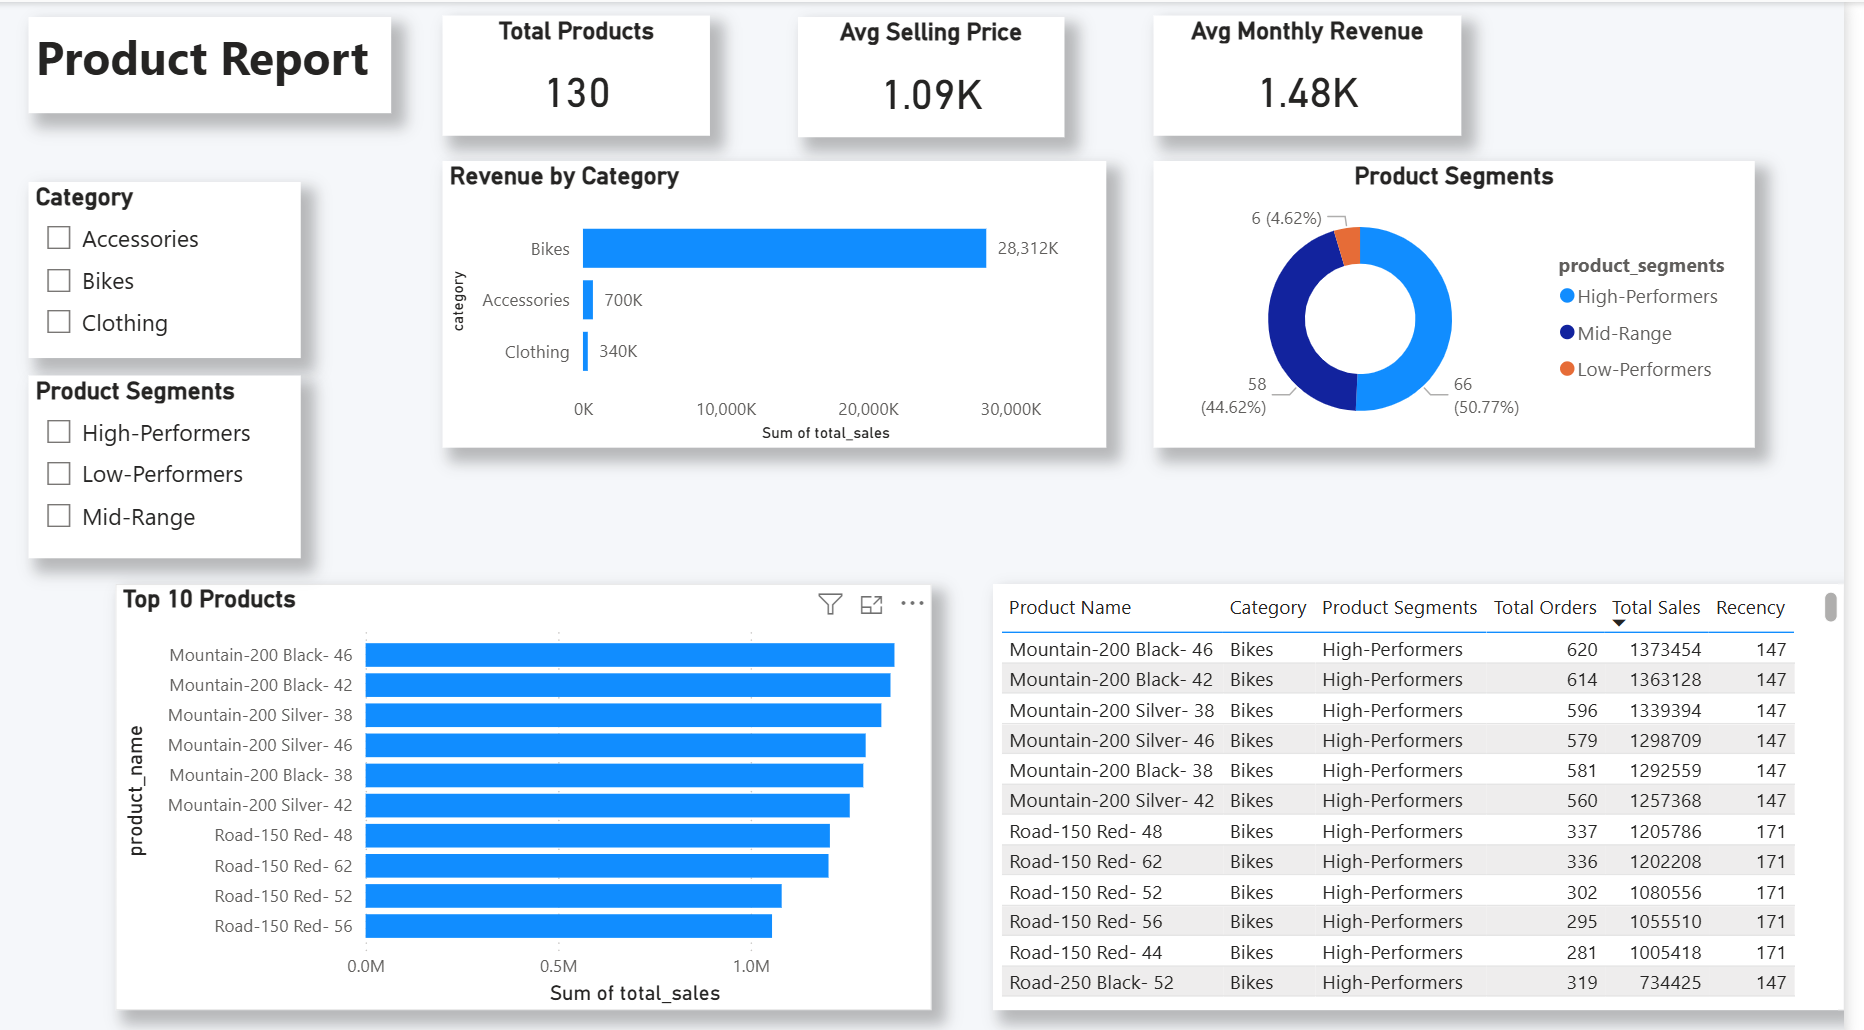

What the dashboard file says about the page in this screenshot:
{"tool":"powerbi","page":{"name":"Product Analytics","canvas":[1280,720],"ordinal":2},"visuals":[{"type":"card","title":"Total Products","fields":{"Values":["CountNonNull(gold report_products.product_key)"]},"box":[308.9,8.9,185.6,83.3],"z":0},{"type":"card","title":"Avg Selling Price","fields":{"Values":["Avg(gold report_products.avg_selling_price)"]},"box":[555.6,10,184.4,83.3],"z":1000},{"type":"card","title":"Avg Monthly Revenue","fields":{"Values":["Avg(gold report_products.avg_monthly_revenue)"]},"box":[801.1,8.9,213.3,83.3],"z":2000},{"type":"donutChart","title":"Product Segments","fields":{"Category":["gold report_products.product_segments"],"Y":["CountNonNull(gold report_products.product_key)"]},"box":[801.1,110,416.7,198.9],"z":3000},{"type":"clusteredBarChart","title":"Revenue by Category","fields":{"Category":["gold report_products.category"],"Y":["Sum(gold report_products.total_sales)"]},"box":[308.9,110,460,198.9],"z":4000},{"type":"clusteredBarChart","title":"Top 10 Products","fields":{"Category":["gold report_products.product_name"],"Y":["Sum(gold report_products.total_sales)"]},"box":[82.2,403.3,565.6,295.6],"z":5000},{"type":"tableEx","fields":{"Values":["gold report_products.product_name","gold report_products.category","gold report_products.product_segments","Sum(gold report_products.total_orders)","Sum(gold report_products.total_sales)","gold report_products.recency"]},"box":[690,403.3,590,295.6],"z":6000},{"type":"textbox","box":[22.2,10,251.1,66.7],"z":7000},{"type":"slicer","title":"Category","fields":{"Values":["gold report_products.category"]},"box":[22.2,124.4,188.9,122.2],"z":8000},{"type":"slicer","title":"Product Segments","fields":{"Values":["gold report_products.product_segments"]},"box":[22.2,258.9,188.9,126.7],"z":9000}]}

Visuals, with their boxes in screenshot pixels (x1, y1, x2, y2), scaled from the page's 1280x720 canvas onto the 1864x1030 screenshot:
"Total Products" card: box(450, 13, 720, 132)
"Avg Selling Price" card: box(809, 14, 1078, 133)
"Avg Monthly Revenue" card: box(1167, 13, 1477, 132)
"Product Segments" donutChart: box(1167, 157, 1773, 442)
"Revenue by Category" clusteredBarChart: box(450, 157, 1120, 442)
"Top 10 Products" clusteredBarChart: box(120, 577, 943, 1000)
tableEx - gold report_products.product_name x gold report_products.category: box(1005, 577, 1863, 1000)
textbox: box(32, 14, 398, 110)
"Category" slicer: box(32, 178, 307, 353)
"Product Segments" slicer: box(32, 370, 307, 552)
